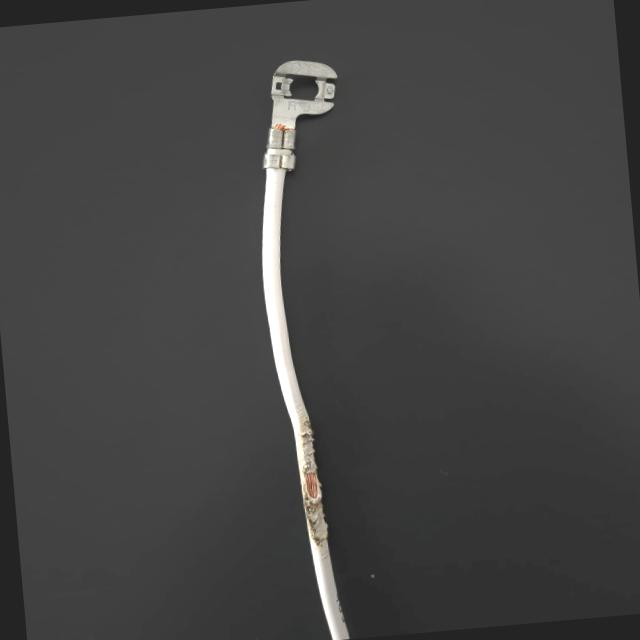defect: (176, 351, 404, 594)
